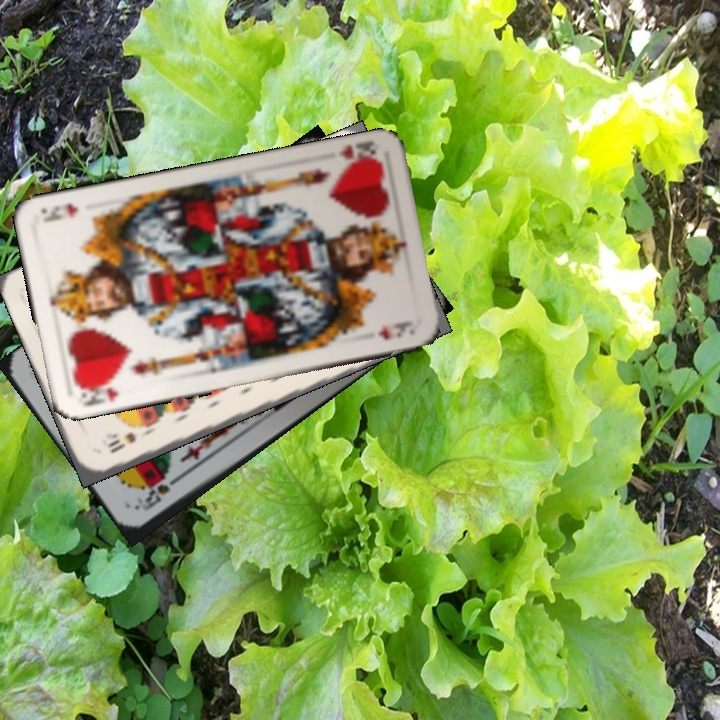HK: (336, 137, 383, 171), (75, 377, 121, 409)
S10: (103, 428, 141, 456)
SK: (133, 470, 185, 514)
